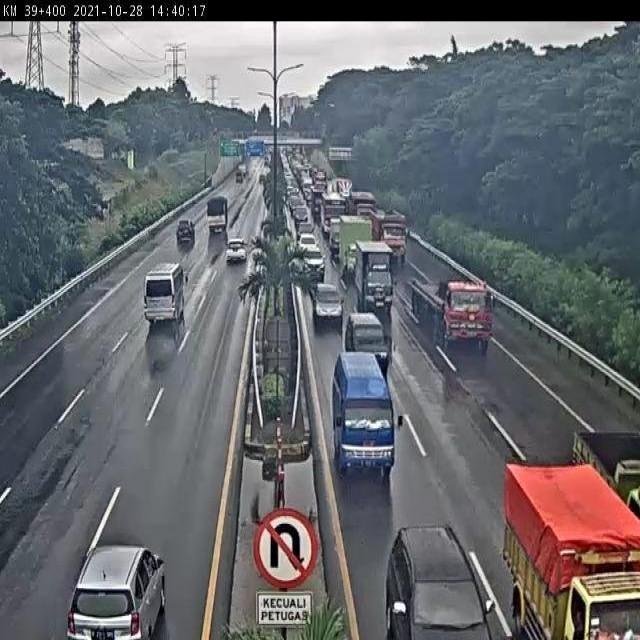car: (66, 545, 168, 640), (346, 312, 390, 365), (312, 281, 345, 324), (302, 241, 327, 279), (226, 236, 247, 265), (177, 217, 196, 240)
small bus: (144, 260, 188, 324)
truck-l-: (369, 206, 408, 262)
truck-m-: (356, 239, 394, 313), (339, 212, 373, 281)
truck-s-: (332, 351, 397, 473)
truck-xl-: (408, 271, 495, 348)
